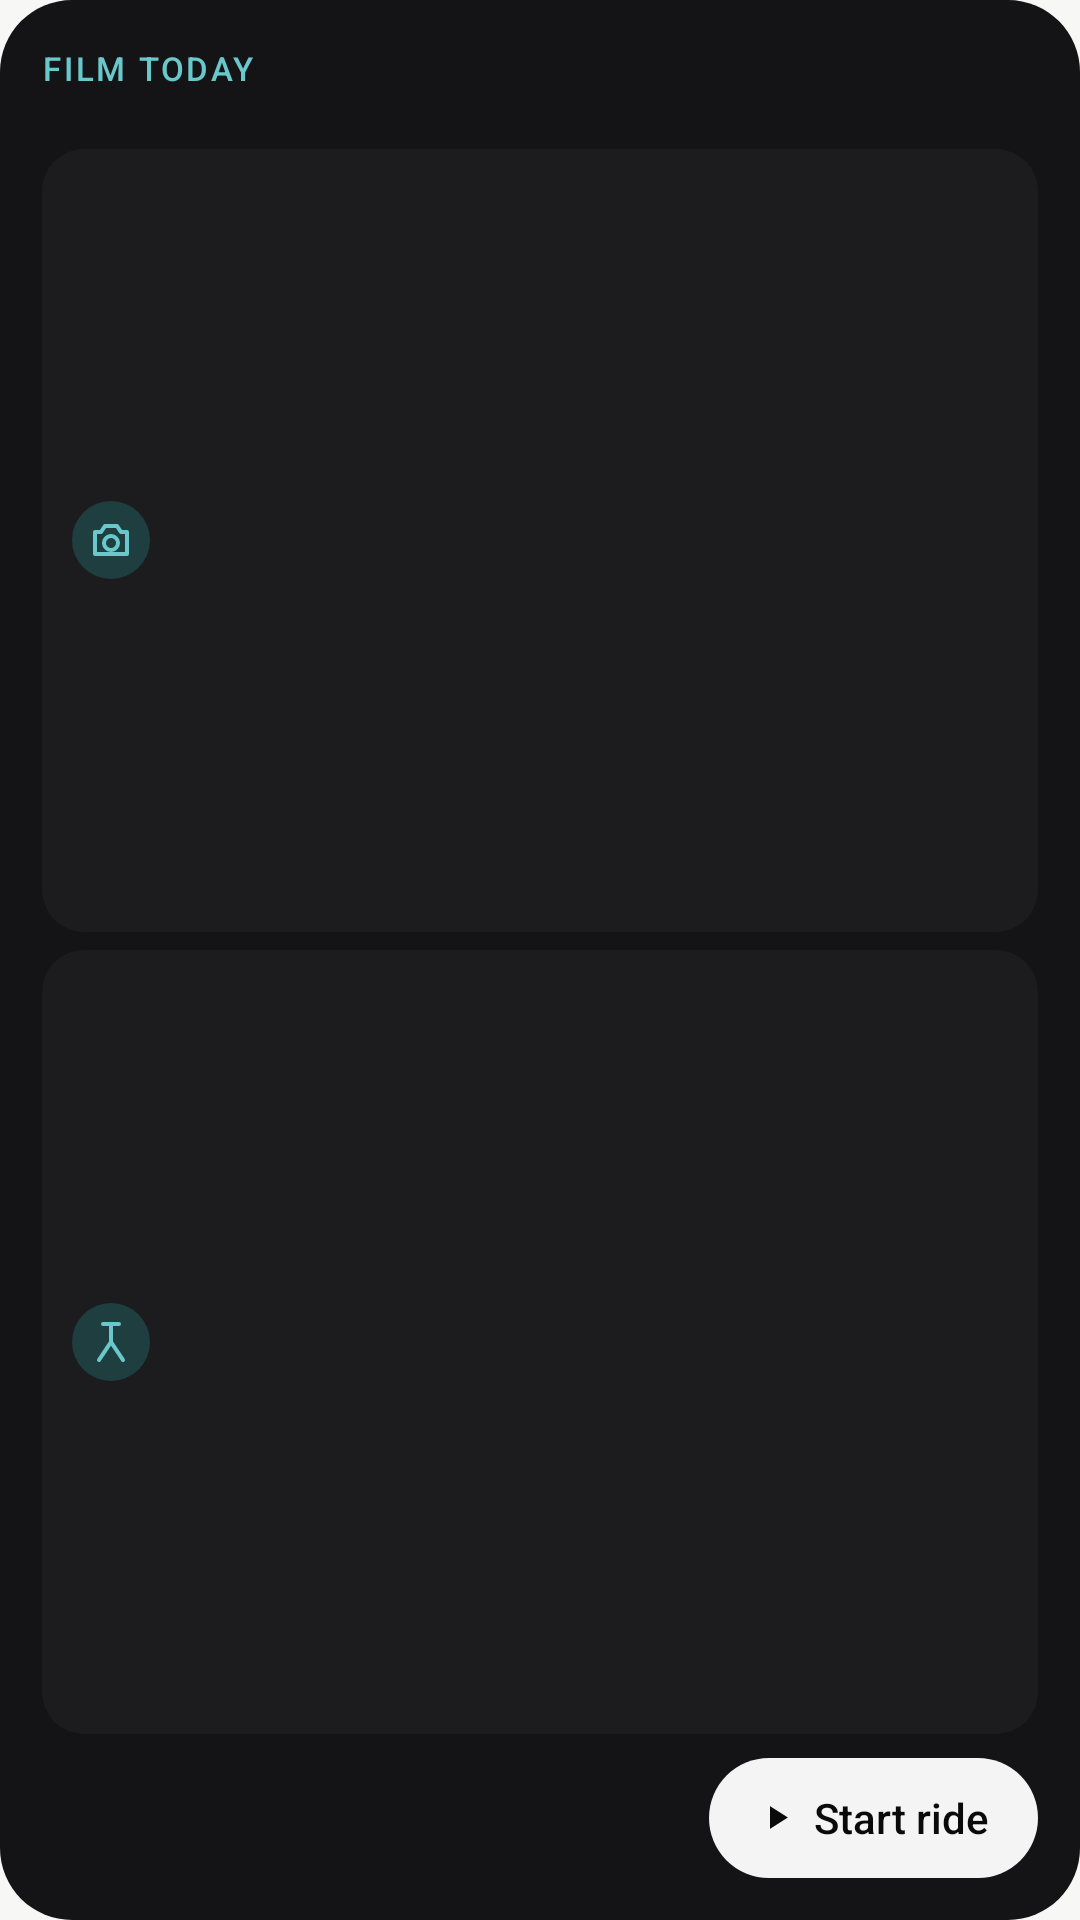

Where to tap for icons on this 1080×1920 app screen, as [x,y]:
camera: [111,540]
tripod: [111,1342]
